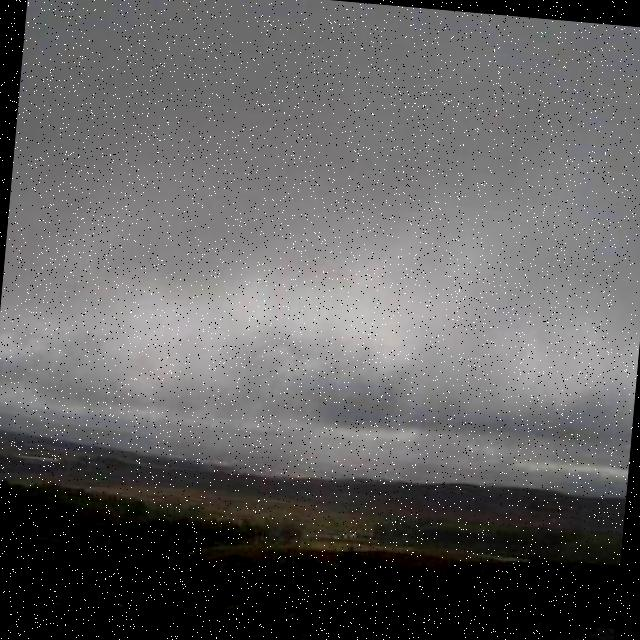St: (5, 1, 640, 478)
